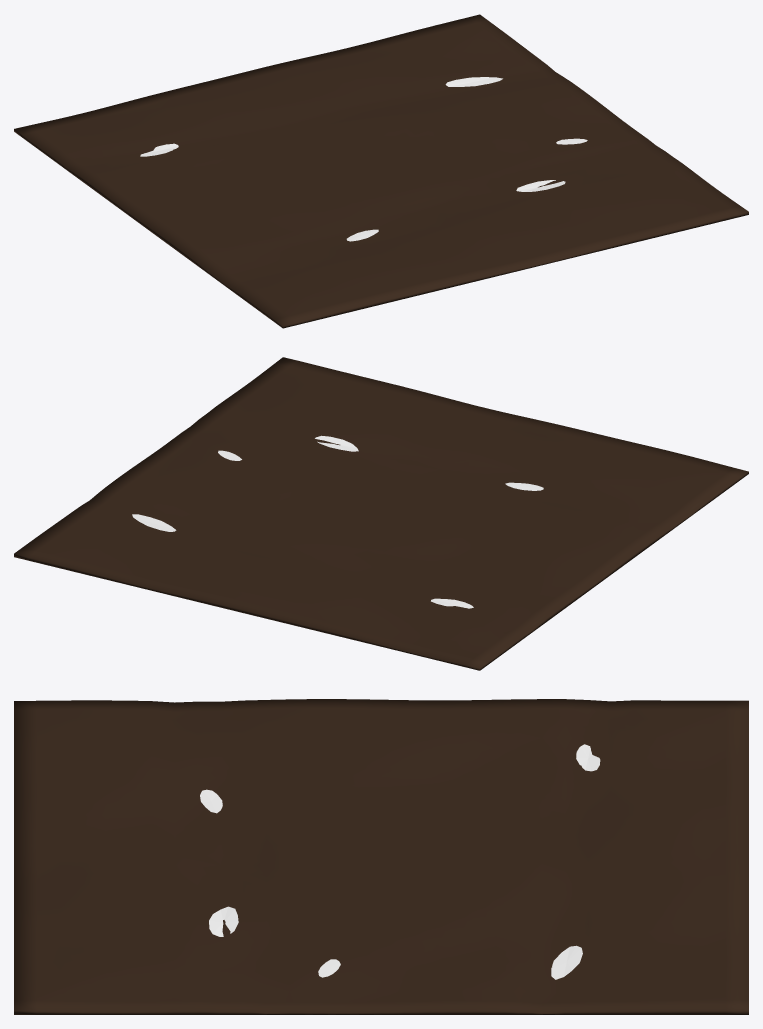
File: shi-wet-field-environment-v1-lod1.fbx
3 renders of one model, top to bottom at view 1: azimuth 30°, elevation 25°; view 2: azimuth 150°, elevation 25°; view 3: azimuth 270°, elevation 25°, orthographic. The views are drawn at different scales.
Visible parts, largest first — view 1: SM_SHI_WetFieldEnvironment_01; view 2: SM_SHI_WetFieldEnvironment_01; view 3: SM_SHI_WetFieldEnvironment_01.
Boxes of the visible parts, x1,y1,x2,y2 form: SM_SHI_WetFieldEnvironment_01: [14, 14, 748, 328]; SM_SHI_WetFieldEnvironment_01: [14, 357, 748, 670]; SM_SHI_WetFieldEnvironment_01: [14, 699, 748, 1014].
Bounding box in the file's own units: 2400 × 24.4 × 2400.
